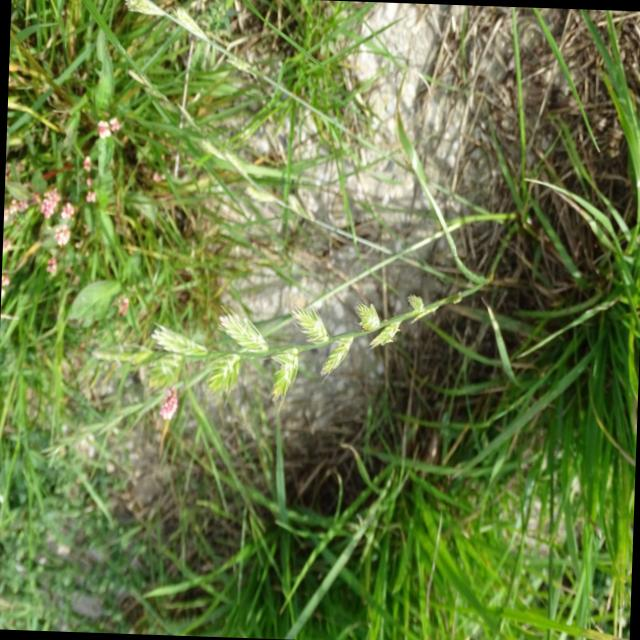Lolium: (54, 186, 590, 482), (160, 239, 538, 412)
